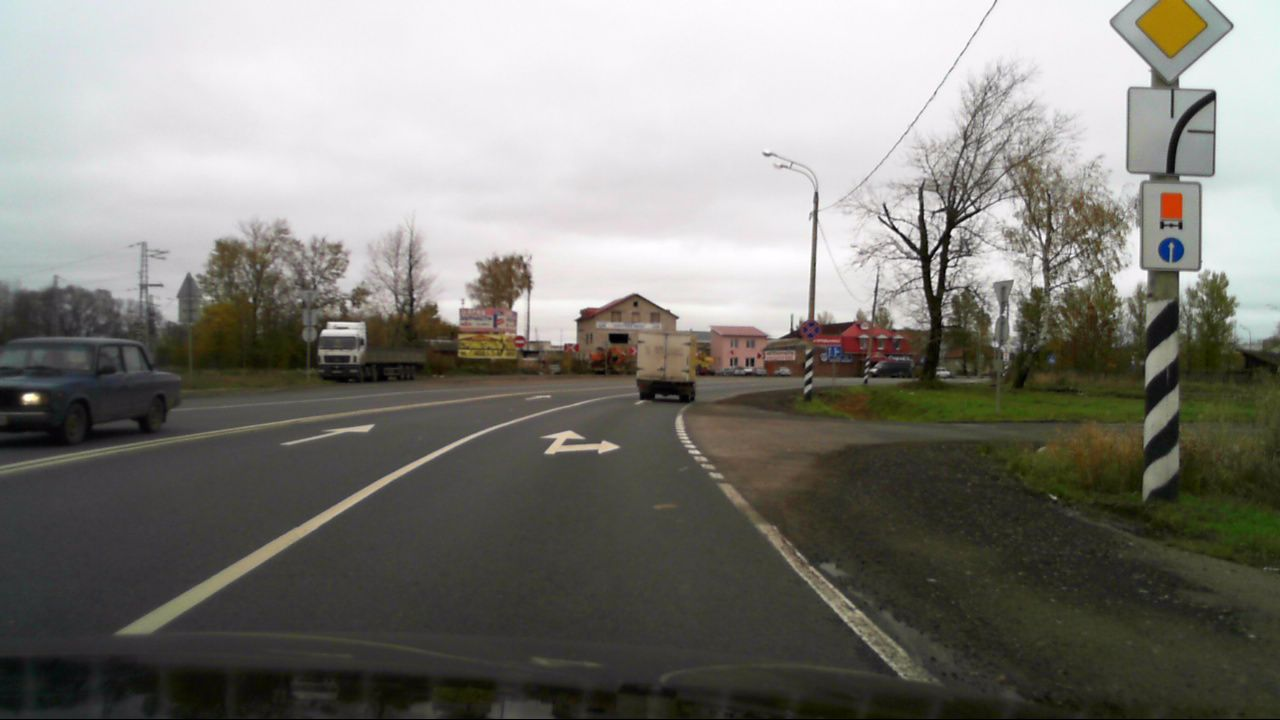No Parking: (800, 320, 820, 340)
